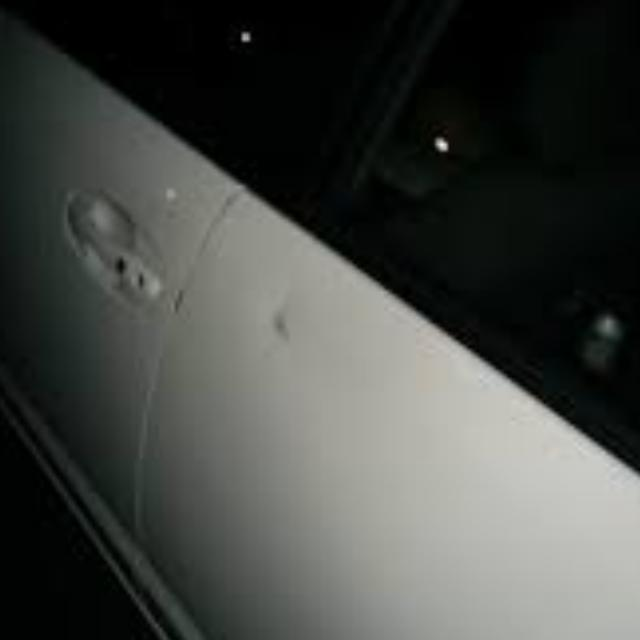dents: (248, 279, 324, 364)
